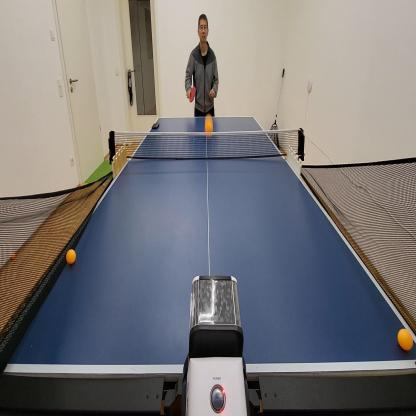Ball: (398, 328, 413, 351), (206, 116, 214, 134), (67, 249, 76, 264), (12, 252, 16, 258), (103, 182, 107, 186)
